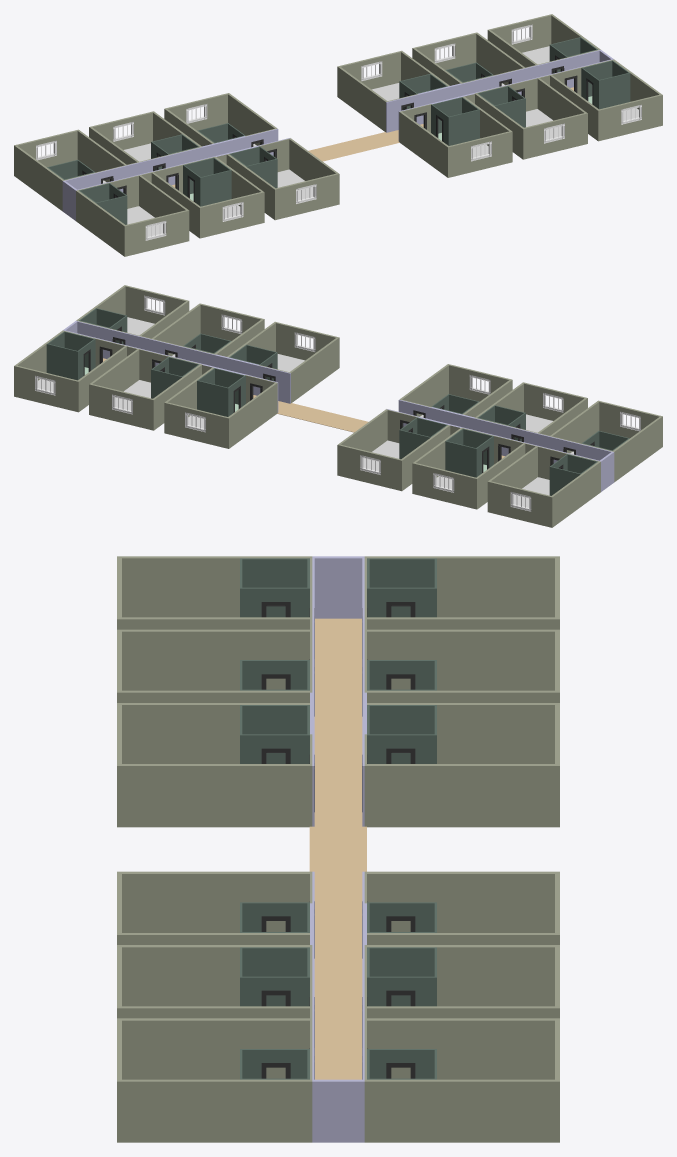
The picture shows the model from 3 angles, top to bottom: view 1: azimuth 30°, elevation 25°; view 2: azimuth 150°, elevation 25°; view 3: azimuth 270°, elevation 25°; orthographic projection. The views are drawn at different scales.
Visible parts, largest first — view 1: room_wall3.002, room_wall3, room_wall3.007, room_wall3.008, room_wall3.001, room_wall3.006, room_wall2.008, room_wall2.009, room_wall4, room_wall4.003, room_wall3.003, room_wall3.011 (+56 smaller); view 2: room_wall3.005, room_wall3.003, room_wall3.010, room_wall3.009, room_wall3.004, room_wall3.011, room_wall2.009, room_wall2.008, room_wall4, room_wall4.003, room_wall3, room_wall3.006 (+56 smaller); view 3: hall floor, room_wall2.002, room_wall2.005, room_wall4.006, room_wall4.011, room_wall2.008, room_wall2.009, room_wall2.001, room_wall2.006, room_wall2.011, room_wall2.004, room_wall4 (+33 smaller).
Part boxes in pixels (x1=…): room_wall3.002: x1=273, y1=173, x2=337, y2=220; room_wall3: x1=123, y1=210, x2=187, y2=256; room_wall3.007: x1=522, y1=113, x2=585, y2=159; room_wall3.008: x1=449, y1=131, x2=512, y2=177; room_wall3.001: x1=201, y1=191, x2=264, y2=237; room_wall3.006: x1=599, y1=94, x2=662, y2=140; room_wall2.008: x1=400, y1=111, x2=449, y2=177; room_wall2.009: x1=337, y1=66, x2=387, y2=131; room_wall4: x1=76, y1=190, x2=124, y2=255; room_wall4.003: x1=15, y1=146, x2=63, y2=210; room_wall3.003: x1=14, y1=130, x2=77, y2=176; room_wall3.011: x1=490, y1=14, x2=552, y2=52; room_wall3.005: x1=339, y1=444, x2=403, y2=491; room_wall3.003: x1=489, y1=481, x2=553, y2=527; room_wall3.010: x1=91, y1=384, x2=154, y2=430; room_wall3.009: x1=164, y1=402, x2=227, y2=448; room_wall3.004: x1=412, y1=462, x2=475, y2=508; room_wall3.011: x1=14, y1=365, x2=77, y2=411; room_wall2.009: x1=227, y1=382, x2=276, y2=448; room_wall2.008: x1=289, y1=337, x2=339, y2=402; room_wall4: x1=613, y1=417, x2=661, y2=481; room_wall4.003: x1=552, y1=461, x2=600, y2=526; room_wall3: x1=599, y1=401, x2=662, y2=447; room_wall3.006: x1=124, y1=285, x2=186, y2=323; hall floor: x1=309, y1=618, x2=366, y2=1079; room_wall2.002: x1=117, y1=764, x2=309, y2=827; room_wall2.005: x1=367, y1=764, x2=559, y2=827; room_wall4.006: x1=122, y1=1079, x2=309, y2=1142; room_wall4.011: x1=367, y1=1079, x2=554, y2=1142; room_wall2.008: x1=117, y1=871, x2=309, y2=932; room_wall2.009: x1=367, y1=871, x2=559, y2=932; room_wall2.001: x1=117, y1=629, x2=309, y2=690; room_wall2.006: x1=117, y1=1018, x2=309, y2=1079; room_wall2.011: x1=367, y1=1018, x2=559, y2=1079; room_wall2.004: x1=367, y1=629, x2=559, y2=690; room_wall4: x1=122, y1=556, x2=309, y2=617.
Size of the model in its own units: 5159 by 280 by 1838.
